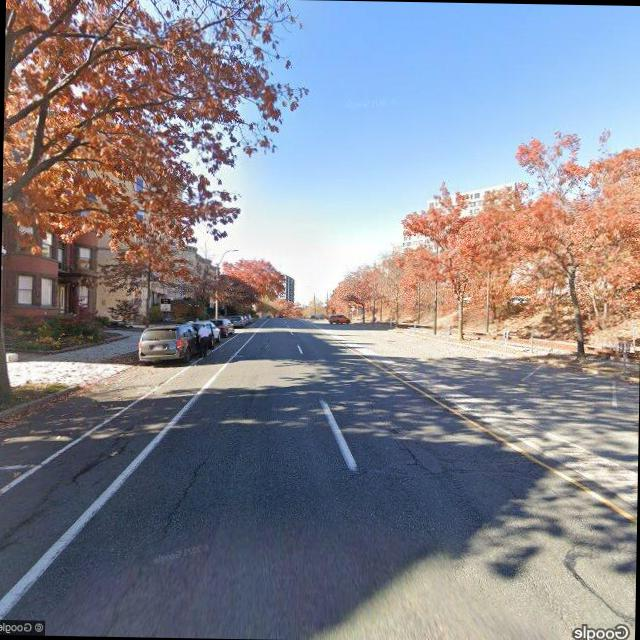pothole: (364, 394, 438, 475), (160, 450, 212, 533)
